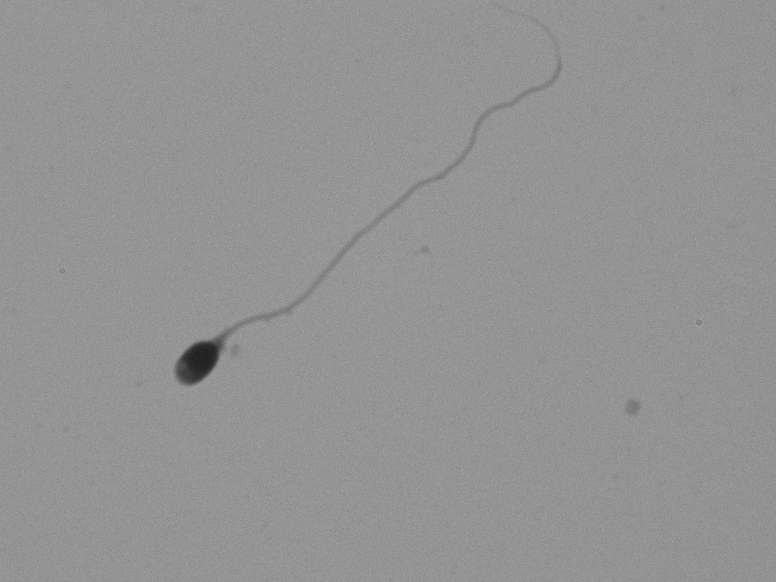Normal: (86, 25, 599, 440)
